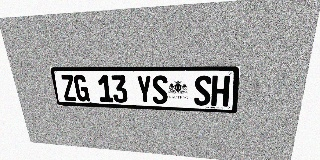1: (97, 75, 114, 102)
3: (111, 75, 128, 103)
G: (73, 75, 90, 101)
H: (211, 75, 230, 106)
S: (194, 75, 212, 106), (152, 75, 168, 104)
Y: (136, 75, 152, 104)
Z: (60, 75, 77, 101)
